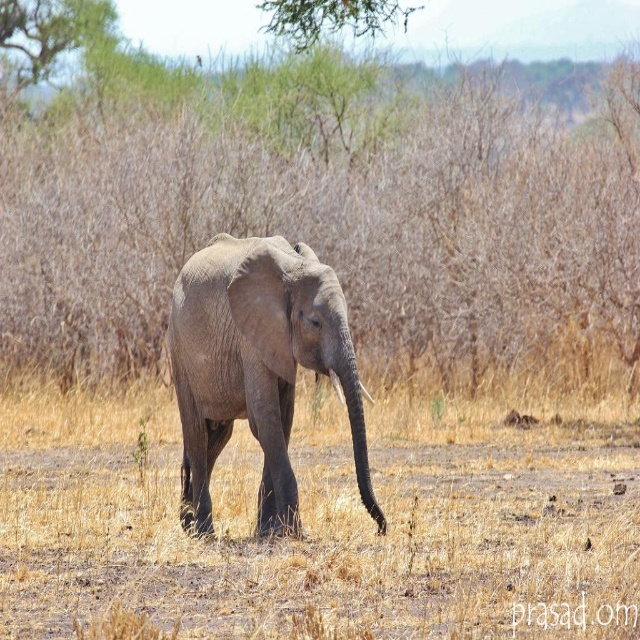Elephant: (156, 226, 391, 551)
